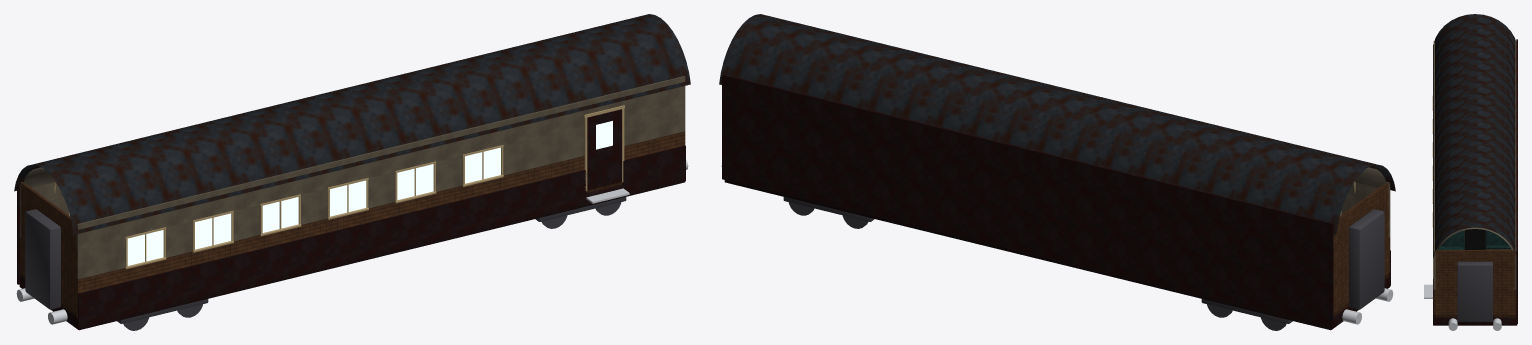
File: train_car.glb
The picture shows the model from 3 angles, left to right: view 1: azimuth 30°, elevation 25°; view 2: azimuth 150°, elevation 25°; view 3: azimuth 270°, elevation 25°; orthographic projection. The views are drawn at different scales.
Parts seen in each view (by area): view 1: Exterior, FrontWall, Interior, DoorFront; view 2: Exterior, Interior, FrontWall; view 3: Exterior, Interior, FrontWall.
Part boxes in pixels (<box>): Exterior: <box>14,14,690,330</box>; FrontWall: <box>76,76,685,328</box>; Interior: <box>20,167,622,317</box>; DoorFront: <box>587,109,621,189</box>; Exterior: <box>719,14,1395,330</box>; Interior: <box>1333,167,1389,316</box>; FrontWall: <box>1340,182,1390,285</box>; Exterior: <box>1424,14,1517,330</box>; Interior: <box>1435,41,1516,317</box>; FrontWall: <box>1432,41,1464,324</box>.
Size of the model in its own units: 18.8 by 4.66 by 3.4.
Materials: 13 (8 with a texture image).
